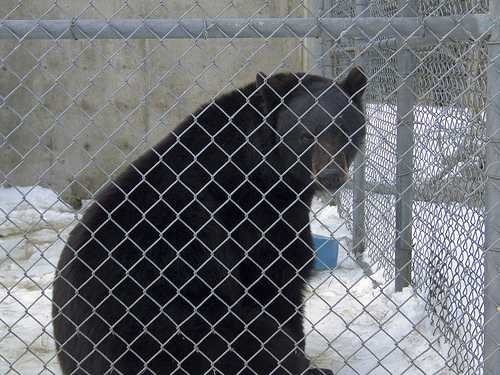bear: (248, 65, 377, 193)
